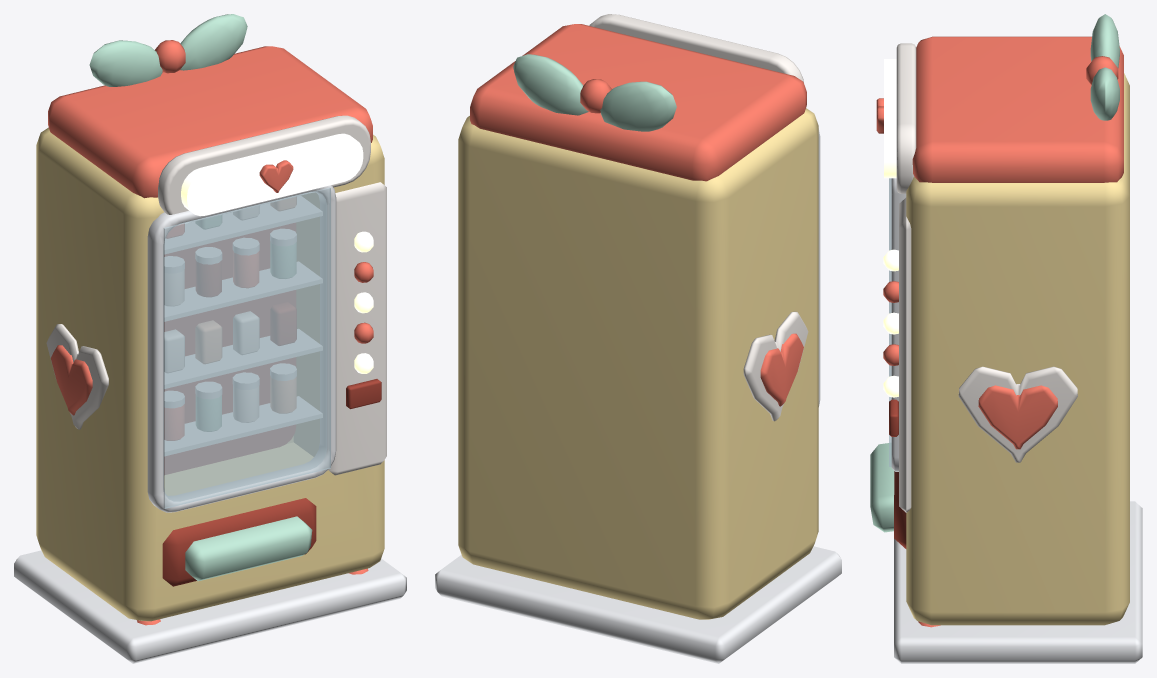
The model's file is vending_pod.glb.
The picture shows the model from 3 angles, left to right: view 1: azimuth 30°, elevation 25°; view 2: azimuth 150°, elevation 25°; view 3: azimuth 270°, elevation 25°; orthographic projection. The views are drawn at different scales.
Visible parts, largest first — view 1: vending_pod; view 2: vending_pod; view 3: vending_pod.
Boxes of the visible parts, box(x1,y1,x2,y2) form: vending_pod: box(14, 14, 406, 663); vending_pod: box(435, 14, 841, 663); vending_pod: box(870, 14, 1142, 663).
Bounding box in the file's own units: 1.37 × 2.44 × 1.09.
